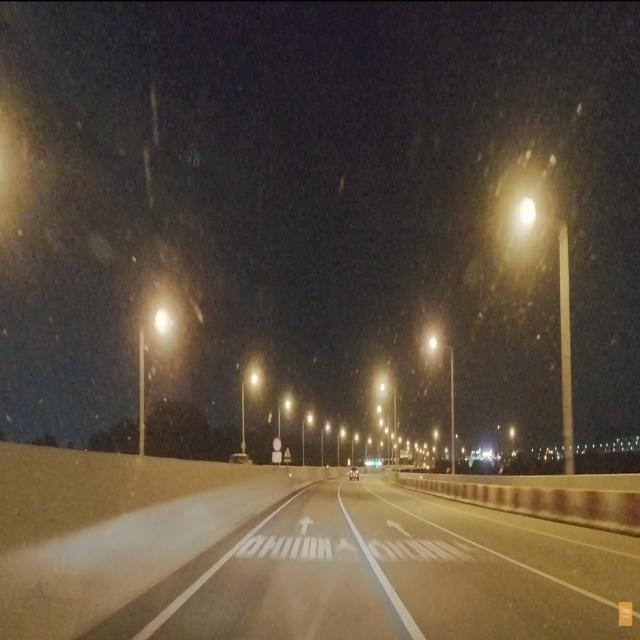forward: (248, 505, 360, 537)
